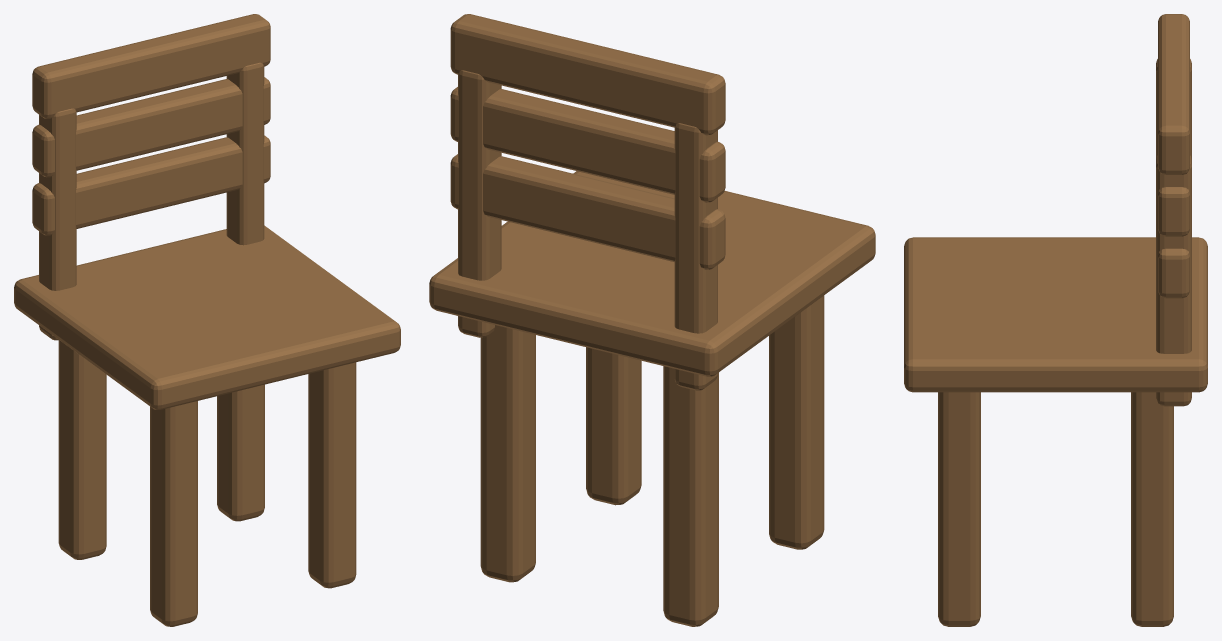
File: best.glb
3 views of the same model, side by side, from view 1: azimuth 30°, elevation 25°; view 2: azimuth 150°, elevation 25°; view 3: azimuth 270°, elevation 25° (orthographic). The views are drawn at different scales.
Parts seen in each view (by area): view 1: Back slat; view 2: Back slat; view 3: Back slat.
Part boxes in pixels (x1,y1,x2,y2): Back slat: (14,14,400,626); Back slat: (429,14,875,626); Back slat: (904,14,1207,626).
Bounding box in the file's own units: 1.06 × 1.97 × 1.06.
